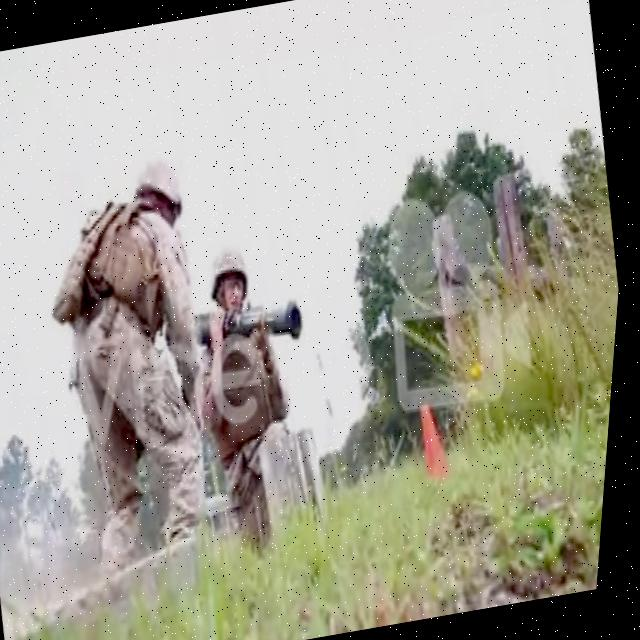rocket: (191, 284, 313, 354)
